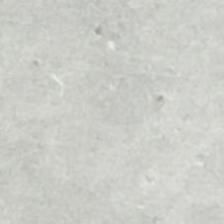Non_Crack: (28, 56, 197, 197)
